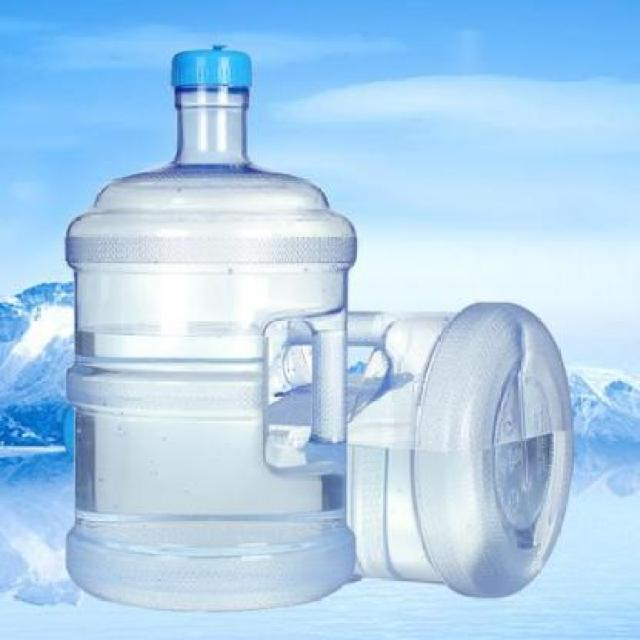coolerbottle: (55, 43, 363, 612)
